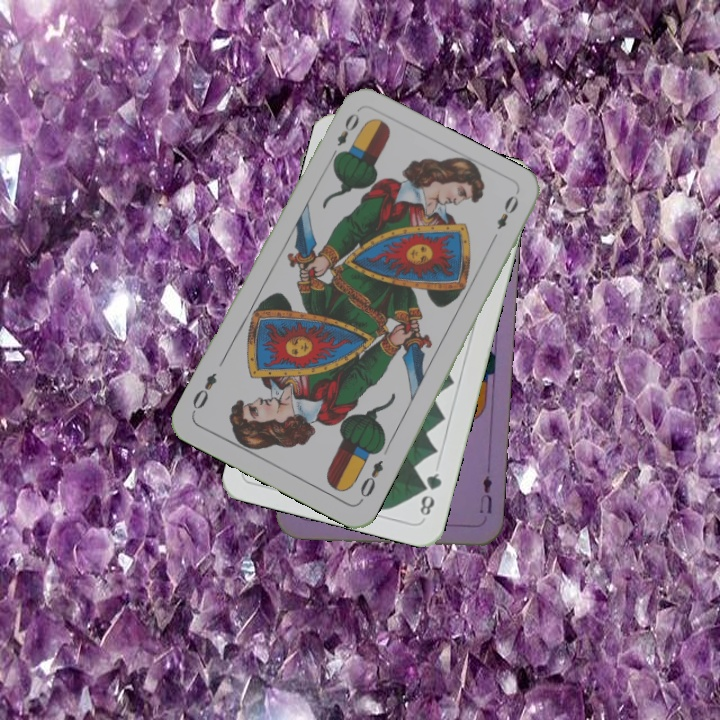EO: (326, 109, 362, 163), (355, 456, 386, 505)
EU: (475, 471, 495, 516)
G8: (416, 469, 445, 519)
